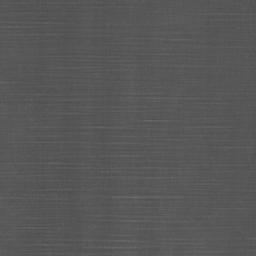Waist folding: (0, 80, 187, 254), (0, 21, 63, 37), (72, 0, 121, 7), (139, 37, 191, 42), (207, 12, 256, 16), (190, 125, 224, 129)
